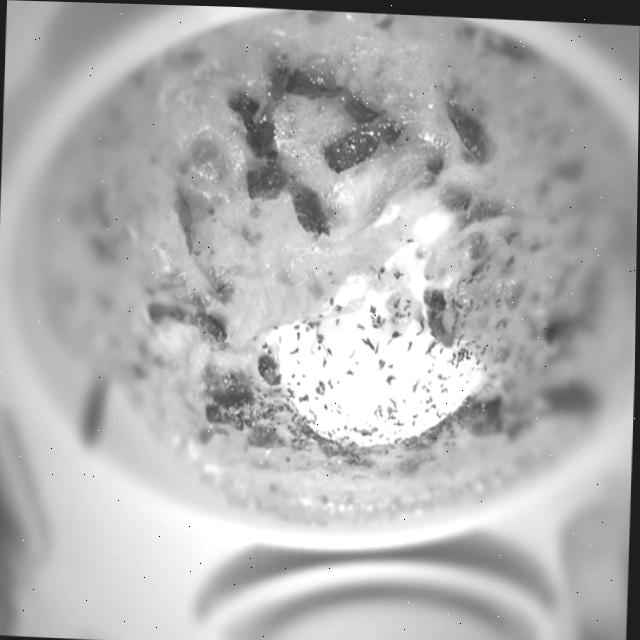米饭主食: (35, 1, 640, 591)
